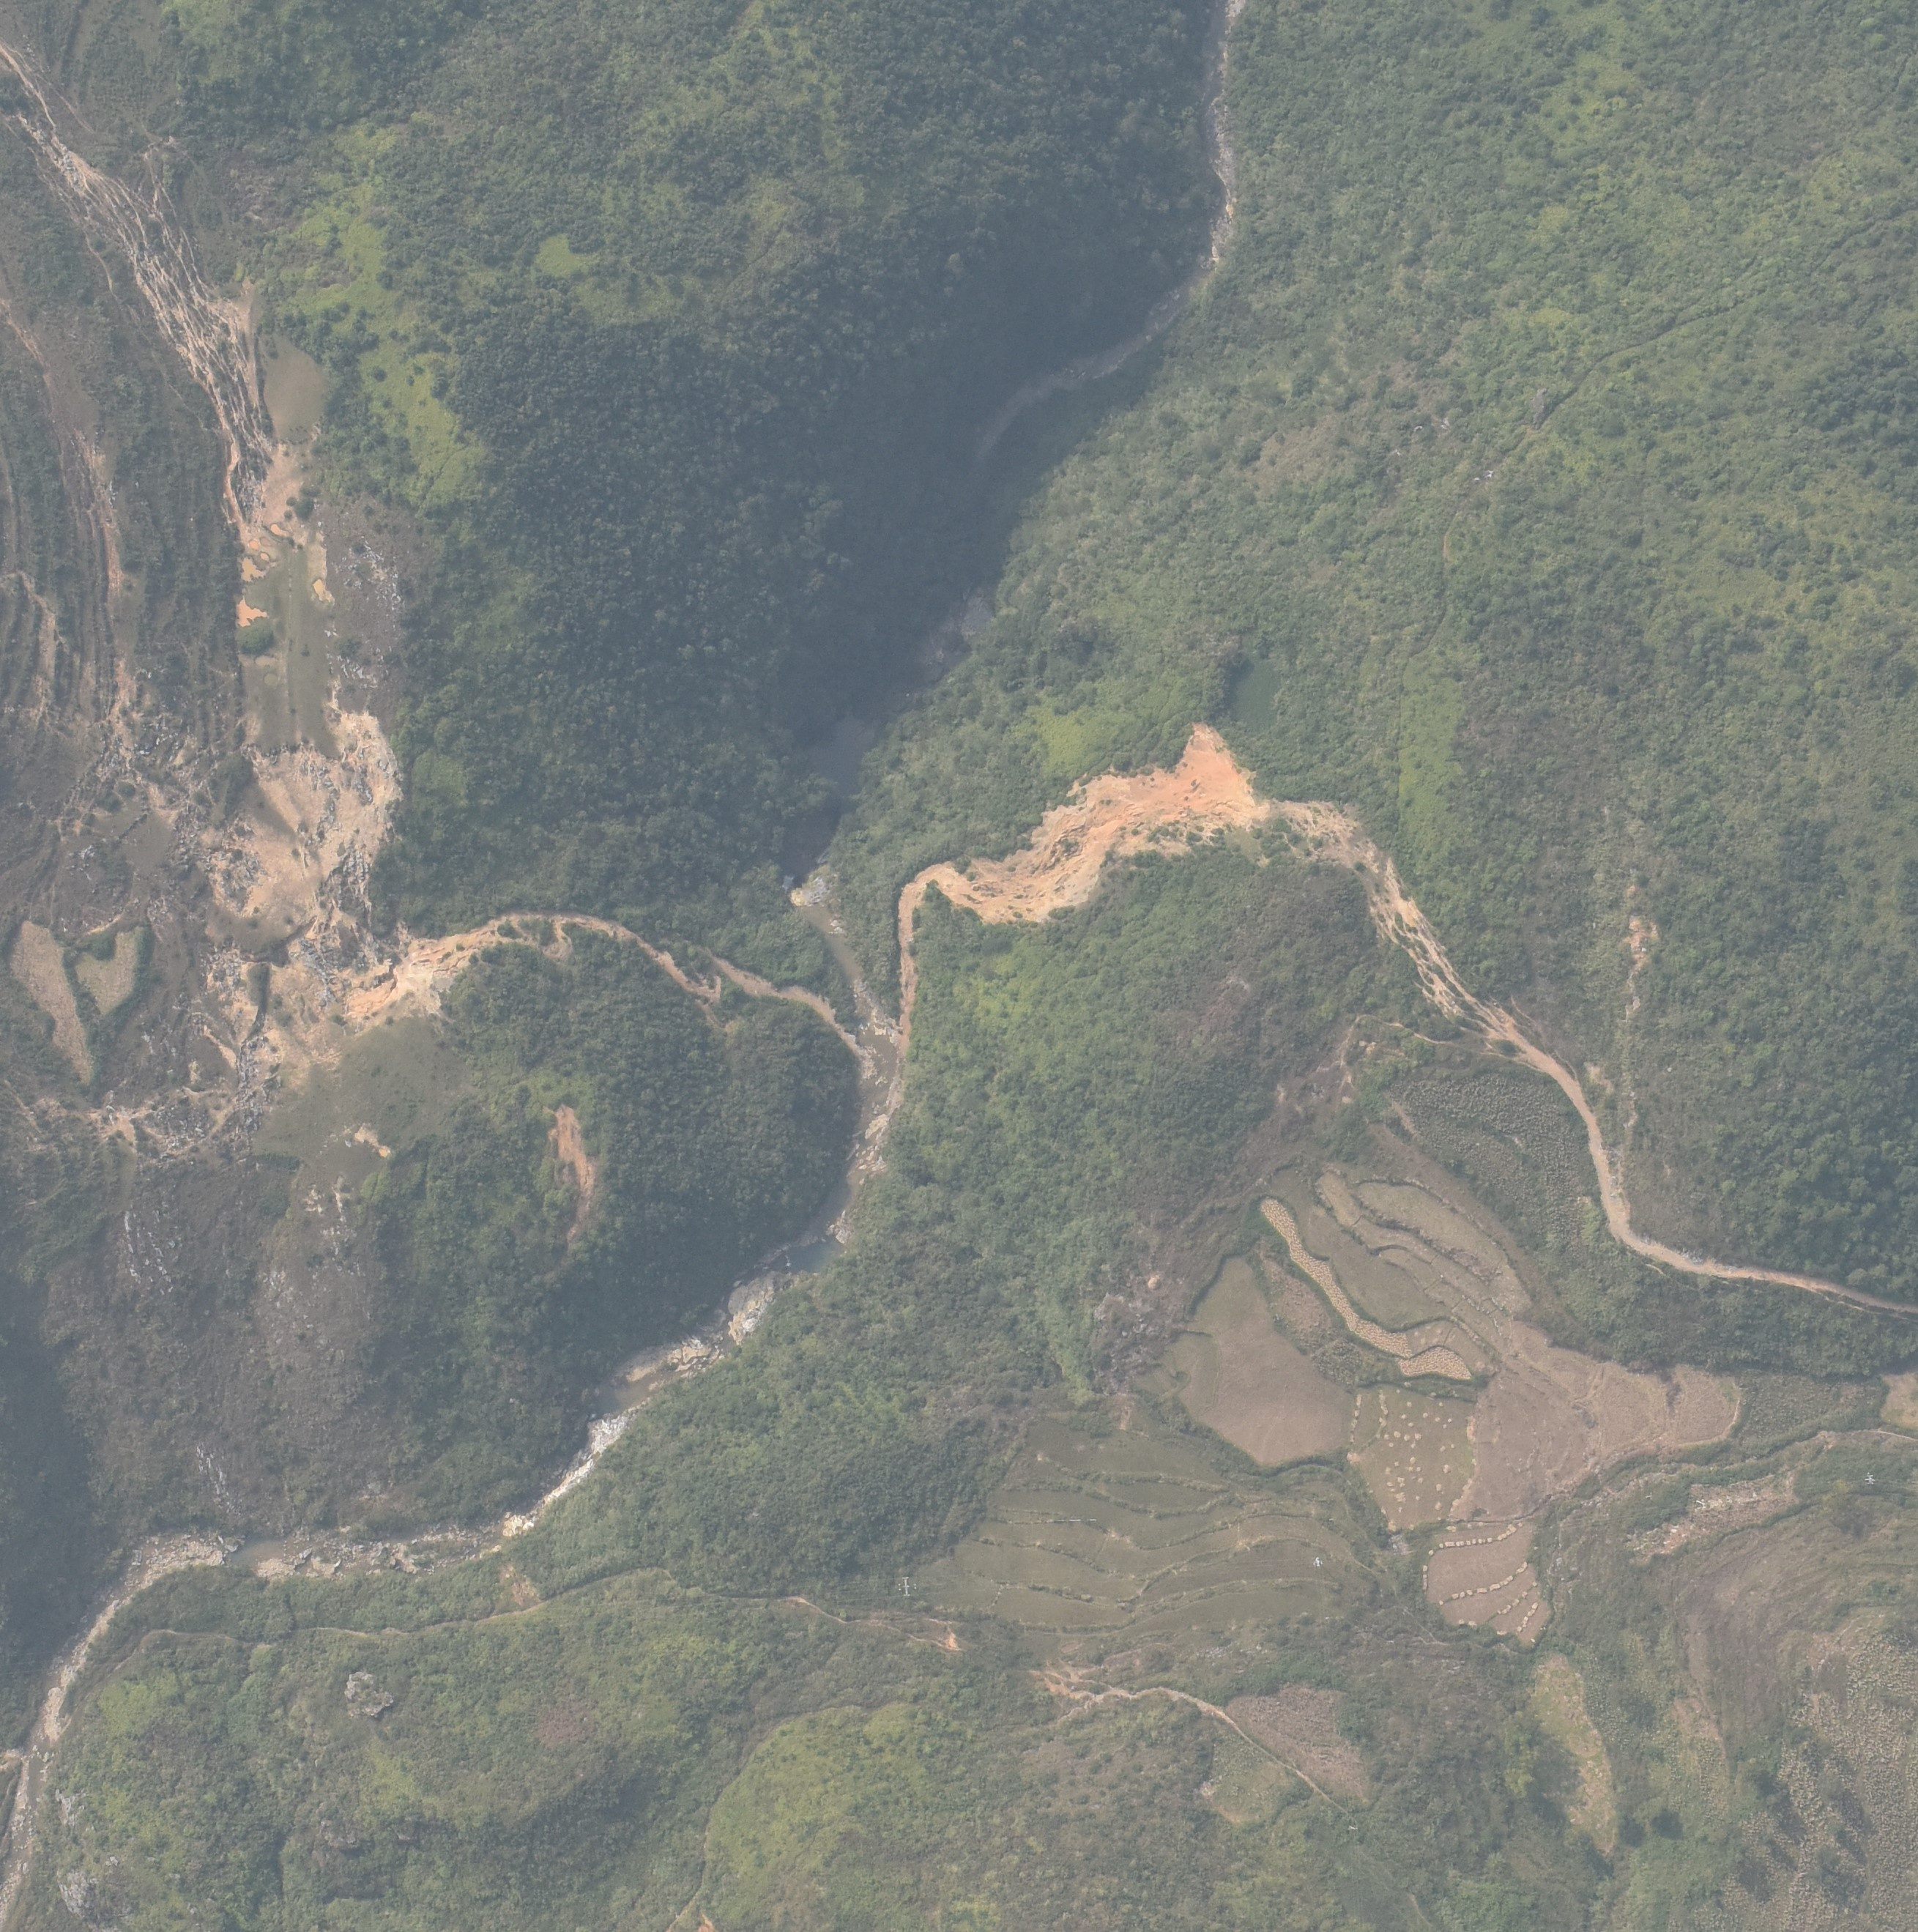cable-tower: (897, 1576, 916, 1596), (1695, 1498, 1707, 1511), (1865, 1473, 1876, 1485), (1313, 1557, 1323, 1567), (1646, 1493, 1654, 1501)
landslide: (212, 704, 484, 1100), (946, 719, 1260, 925)
